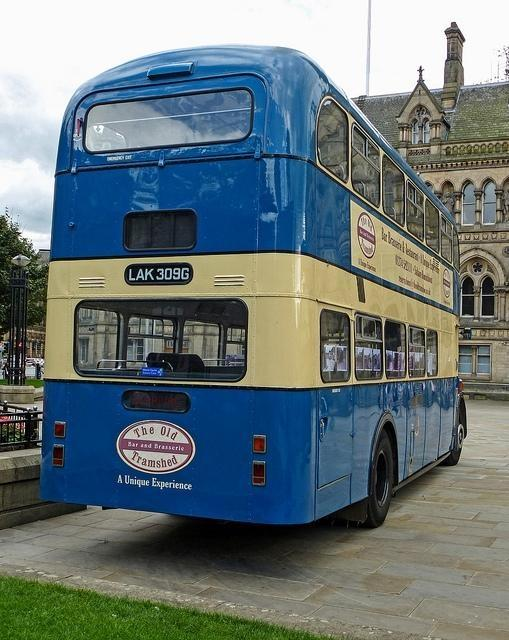bus: (42, 44, 468, 532)
